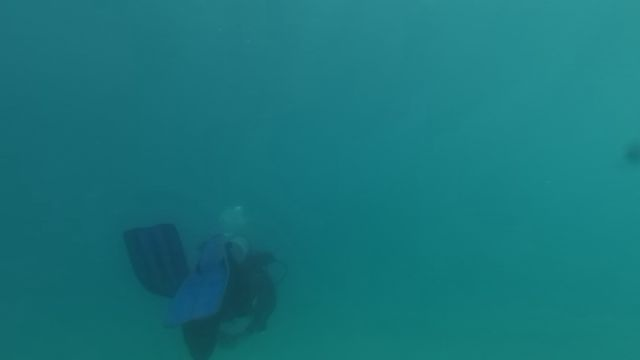Diver: (111, 210, 293, 358)
